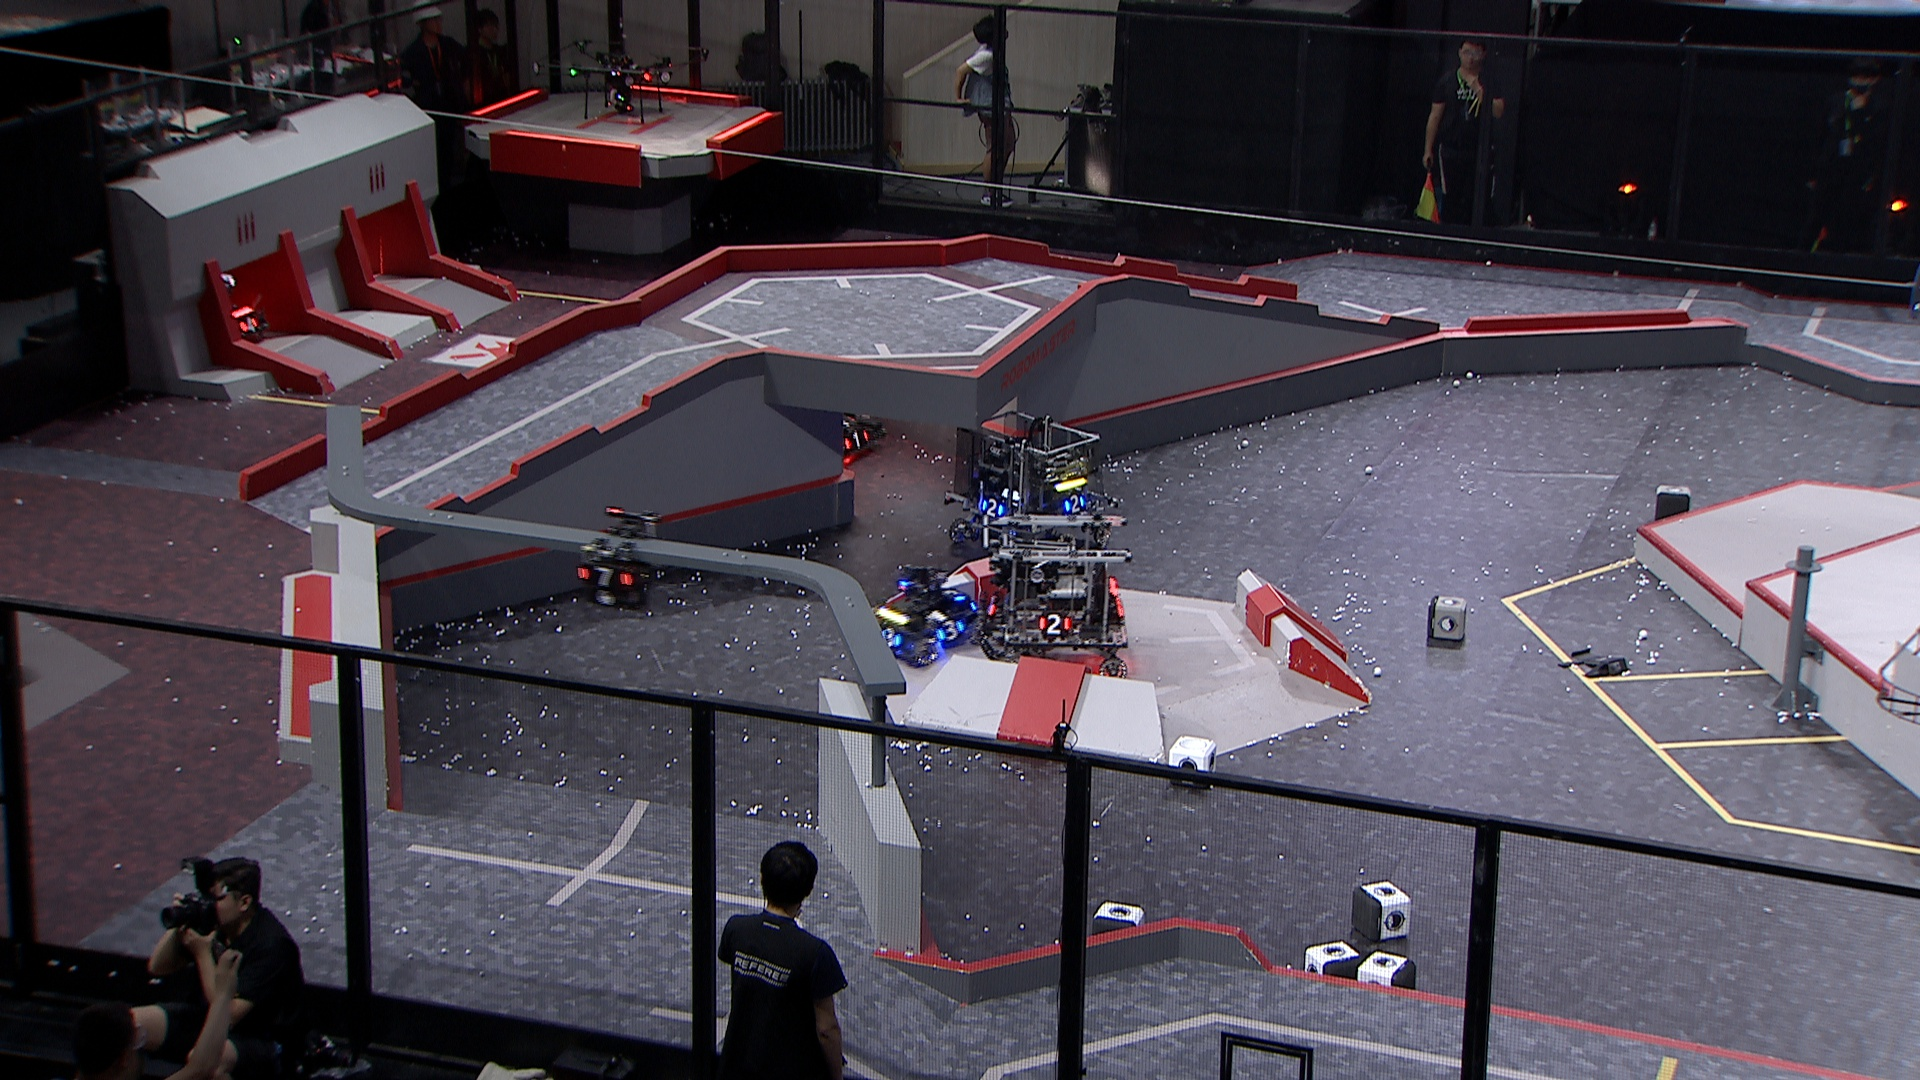armor: (575, 564, 633, 589), (1036, 611, 1073, 637), (932, 618, 965, 644), (978, 496, 1006, 522), (844, 431, 870, 454), (880, 626, 903, 650), (982, 591, 1002, 618), (237, 315, 261, 338), (939, 585, 968, 603), (1062, 495, 1087, 513), (840, 414, 855, 431)
car: (975, 514, 1134, 680), (942, 411, 1102, 559), (750, 338, 884, 465), (868, 564, 978, 669), (171, 272, 272, 356)
watcher: (571, 506, 659, 612)
